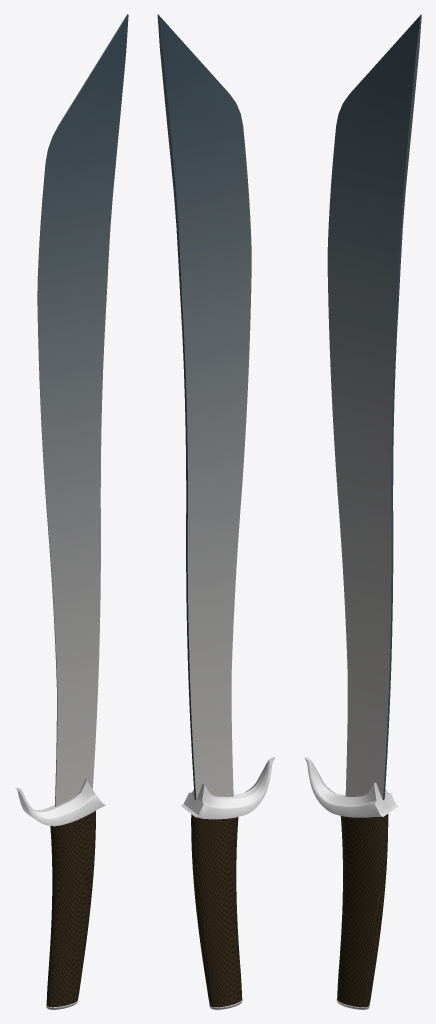
The model's file is Sword.obj.
The picture shows the model from 3 angles, left to right: view 1: azimuth 30°, elevation 25°; view 2: azimuth 210°, elevation 25°; view 3: azimuth 330°, elevation 25°; orthographic projection. The views are drawn at different scales.
Parts seen in each view (by area): view 1: pCube1, pCylinder1, pCube2; view 2: pCube1, pCylinder1, pCube2; view 3: pCube1, pCylinder1, pCube2.
Boxes of the visible parts, x1,y1,x2,y2 form: pCube1: (37,14,128,806); pCylinder1: (46,810,95,1009); pCube2: (15,779,105,826); pCube1: (157,14,251,799); pCylinder1: (191,814,242,1009); pCube2: (181,757,274,819); pCube1: (327,14,421,799); pCylinder1: (336,814,388,1009); pCube2: (304,757,398,817).
Bounding box in the file's own units: 3.24 × 26.78 × 0.7452.
1 material, 1 textured.
